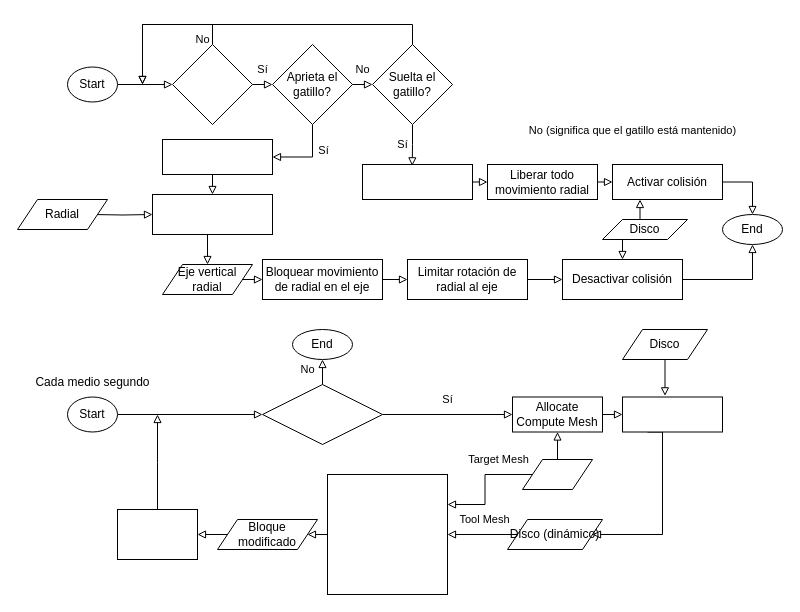
Image size: 800x612. Some labels were removed from this diagram. The centre of each missing label's shape, as x and y in pixels:
"Apply Mesh Boolean (Substract)" goes at point (387, 534).
"Bloque" goes at point (557, 474).
"Copy Mesh From Component" goes at point (672, 414).
"Create Debri and Release" goes at point (157, 534).
"Obtener eje vertical" goes at point (212, 214).
"Radial equipada?" goes at point (212, 84).
"RTriggerDown= No" goes at point (417, 182).
"RTriggerDown= Sí" goes at point (217, 156).
"RTriggerDown?" goes at point (322, 414).
